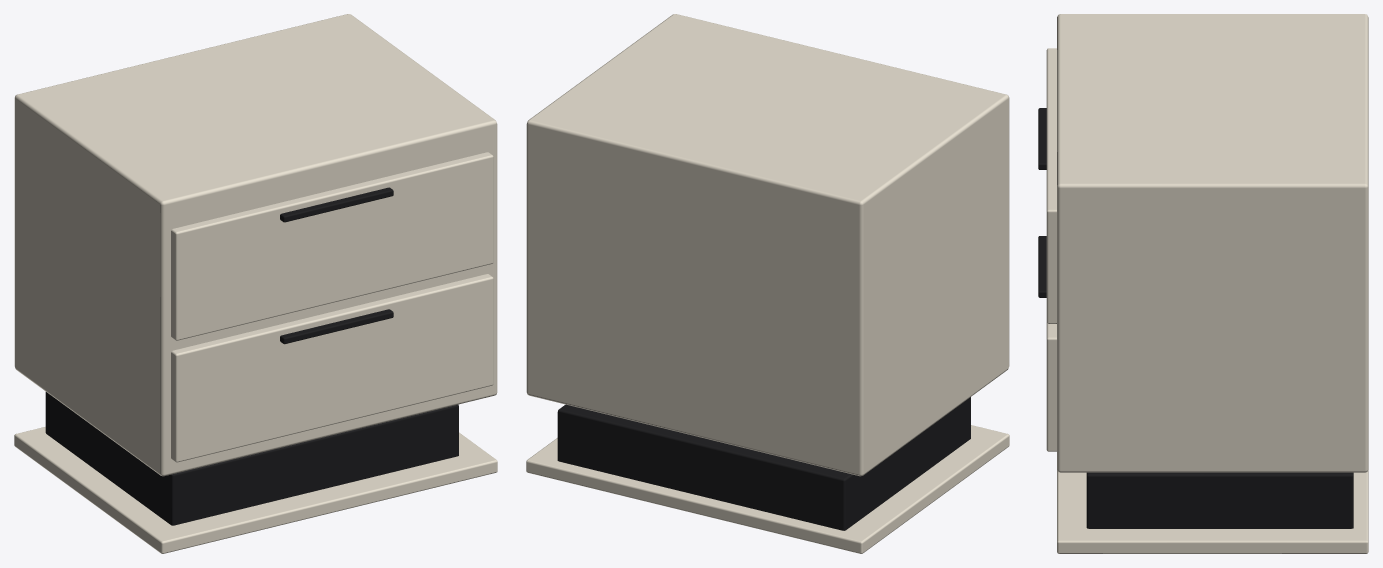
Rendered from traverten-bed-set--night.glb.
The picture shows the model from 3 angles, left to right: view 1: azimuth 30°, elevation 25°; view 2: azimuth 150°, elevation 25°; view 3: azimuth 270°, elevation 25°; orthographic projection. The views are drawn at different scales.
Visible parts, largest first — view 1: body, dr1, dr0, plinth, foot, grip1, grip0; view 2: body, plinth, foot; view 3: body, plinth, foot, dr1, dr0, grip0, grip1.
Boxes of the visible parts, bbox=[...] form: body: bbox=[14, 14, 497, 476]; dr1: bbox=[171, 152, 493, 340]; dr0: bbox=[171, 274, 493, 462]; plinth: bbox=[45, 392, 458, 525]; foot: bbox=[14, 427, 497, 553]; grip1: bbox=[280, 187, 393, 222]; grip0: bbox=[280, 309, 393, 344]; body: bbox=[526, 14, 1009, 476]; plinth: bbox=[557, 397, 970, 530]; foot: bbox=[526, 425, 1009, 553]; body: bbox=[1057, 14, 1368, 472]; plinth: bbox=[1086, 472, 1353, 528]; foot: bbox=[1057, 469, 1368, 553]; dr1: bbox=[1046, 48, 1056, 323]; dr0: bbox=[1046, 322, 1056, 451]; grip0: bbox=[1038, 236, 1046, 297]; grip1: bbox=[1038, 108, 1046, 169].
Size of the model in its own units: 0.55 by 0.55 by 0.445.
